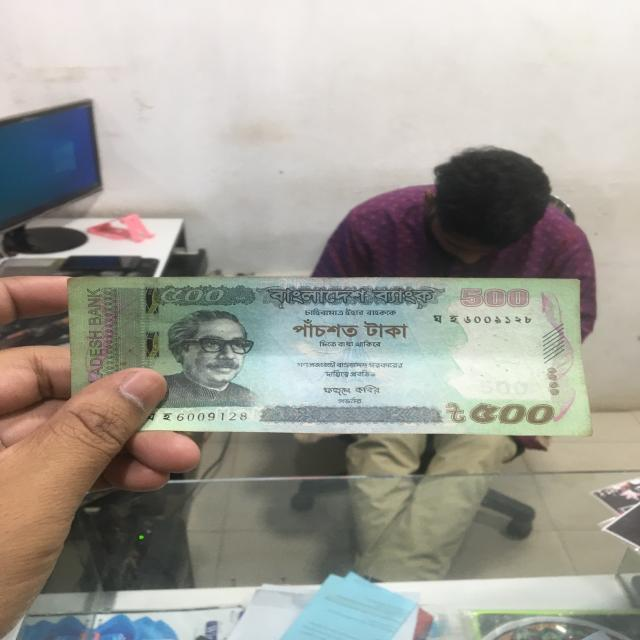Taka: (71, 276, 591, 437)
